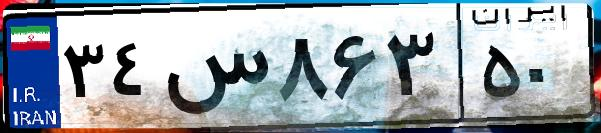0: (525, 38, 570, 115)
3: (385, 28, 445, 110), (57, 26, 110, 100)
4: (110, 28, 158, 98)
5: (475, 38, 525, 113)
6: (330, 28, 385, 110)
8: (270, 28, 330, 110)
س: (158, 20, 270, 120)
